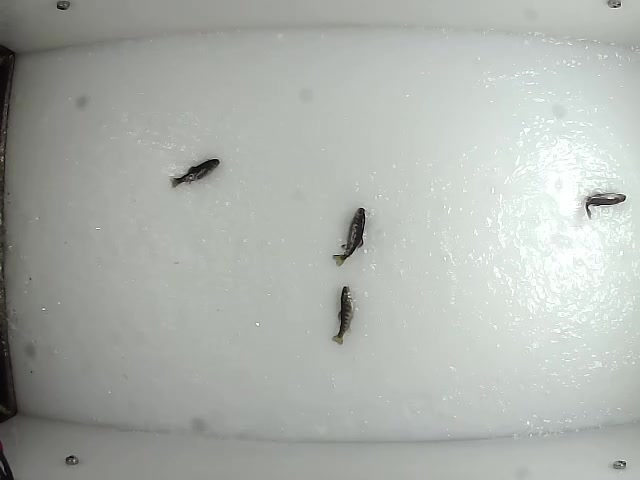fish: (330, 205, 369, 268), (169, 158, 220, 189), (331, 285, 356, 345), (583, 188, 627, 221)
